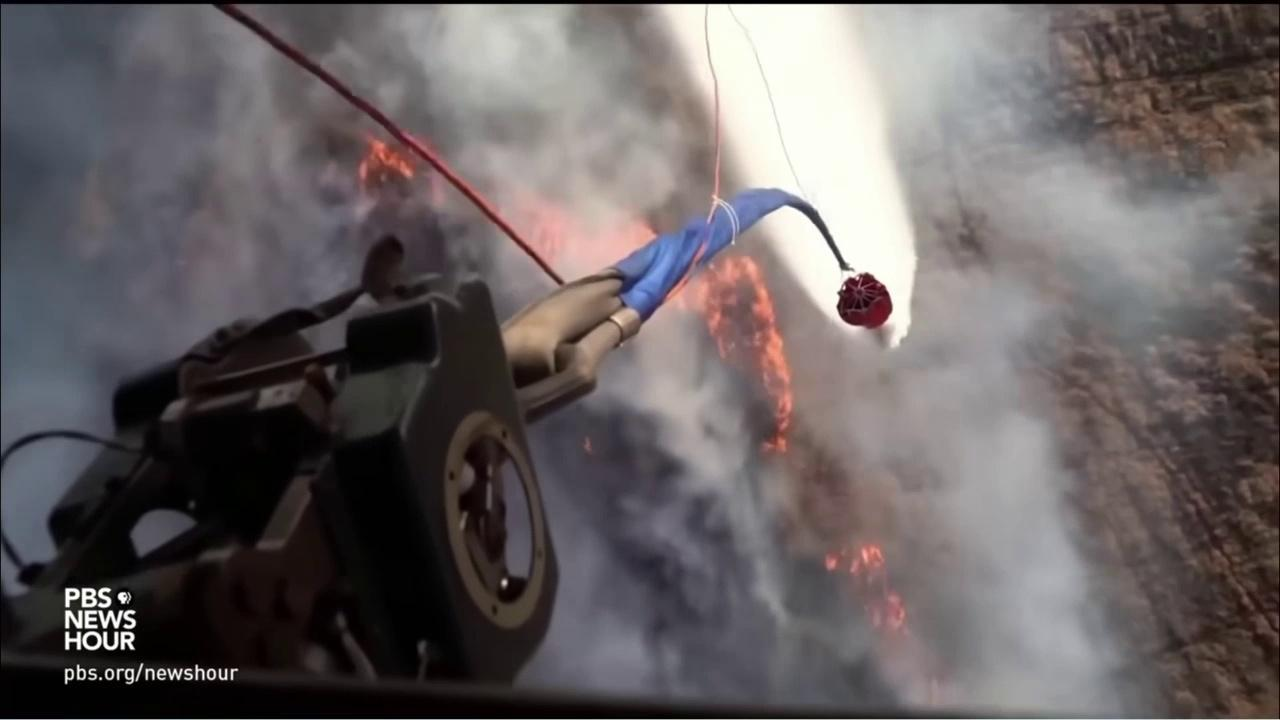fire: (481, 188, 792, 459), (354, 128, 452, 212), (817, 542, 890, 582), (856, 588, 906, 631), (580, 432, 594, 457)
smoke: (3, 4, 1280, 720)
